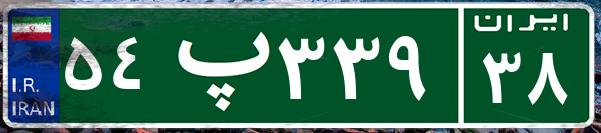3: (273, 28, 330, 110), (330, 28, 385, 110), (475, 38, 525, 113)
4: (110, 28, 158, 105)
5: (57, 26, 110, 107)
8: (525, 38, 570, 115)
9: (385, 28, 445, 110)
پ: (158, 15, 273, 115)
